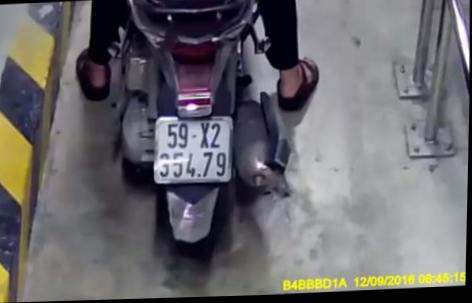LP: (152, 115, 235, 188)
